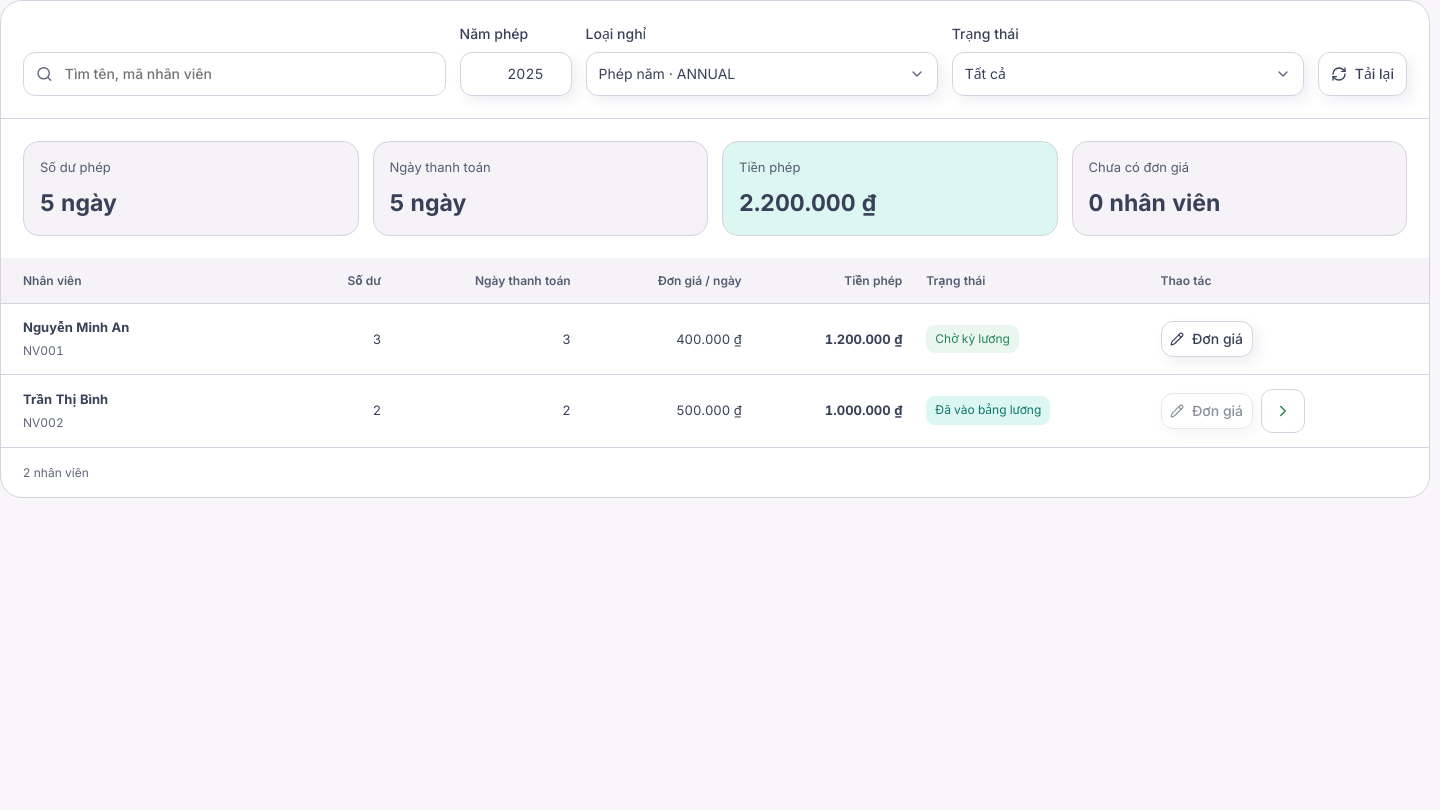
Test: year-end leave settlement UI › validates the integer rate and a meaningful reason before sending any update
The width and height of the screenshot is (1440, 810).
Click the button "Đơn giá" in the row of "Nguyễn Minh An". click: (1206,339)
box: [1160,321,1252,357]
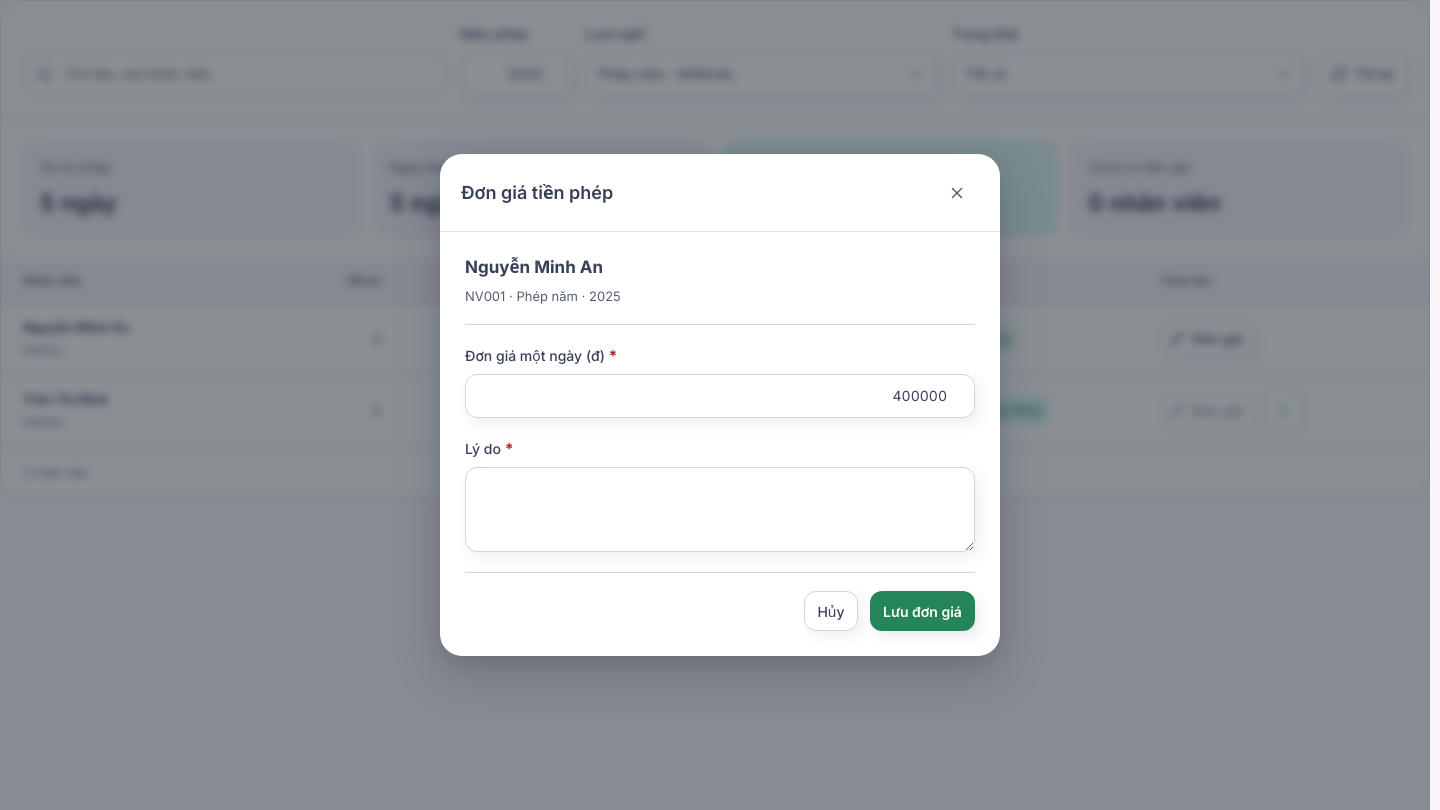
Replace the text in the number field labelled "Đơn giá một ngày (đ) *" with "0.5". click: (720,396)
box: [465,374,975,418]
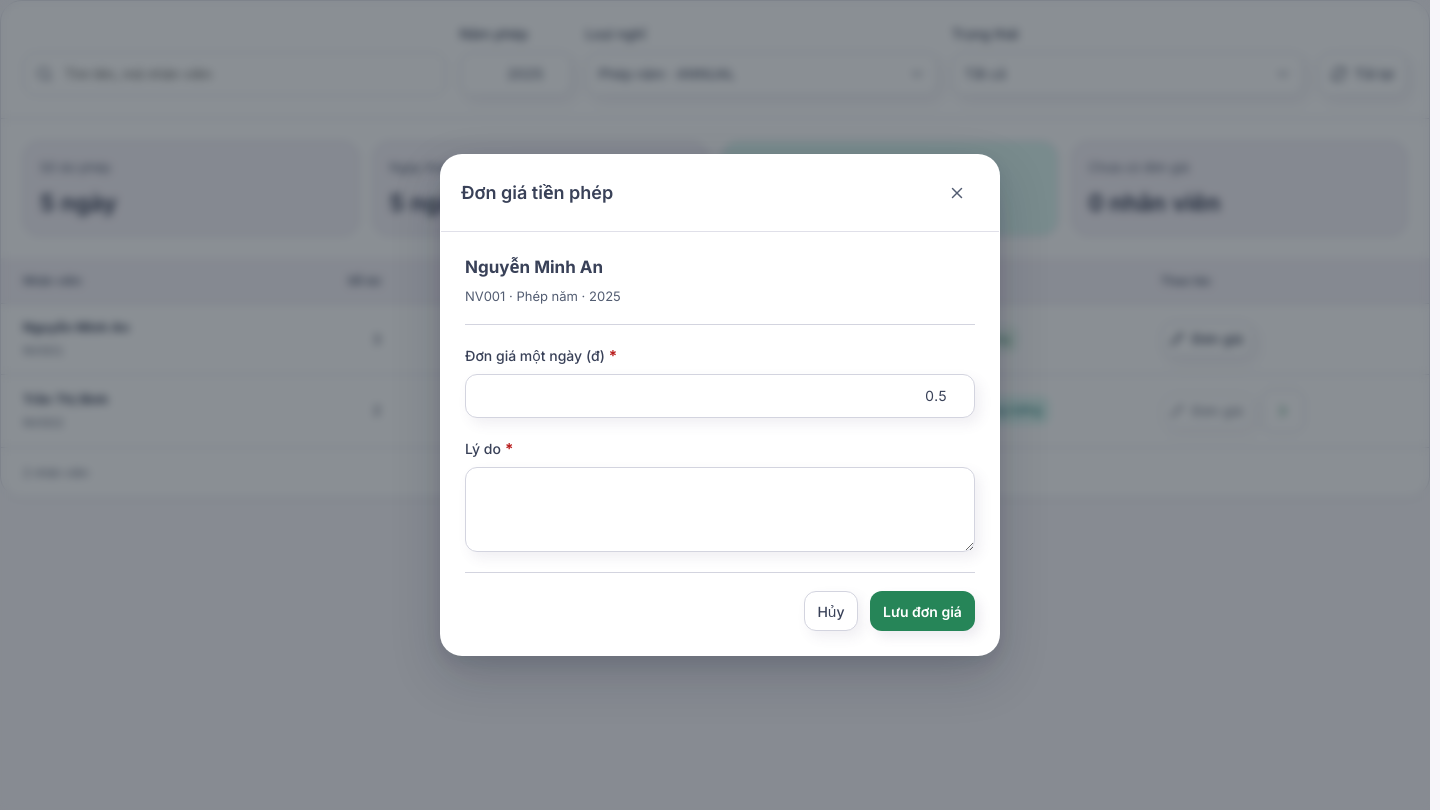
Click the button "Lưu đơn giá". click: (922,611)
box: [870,591,975,631]
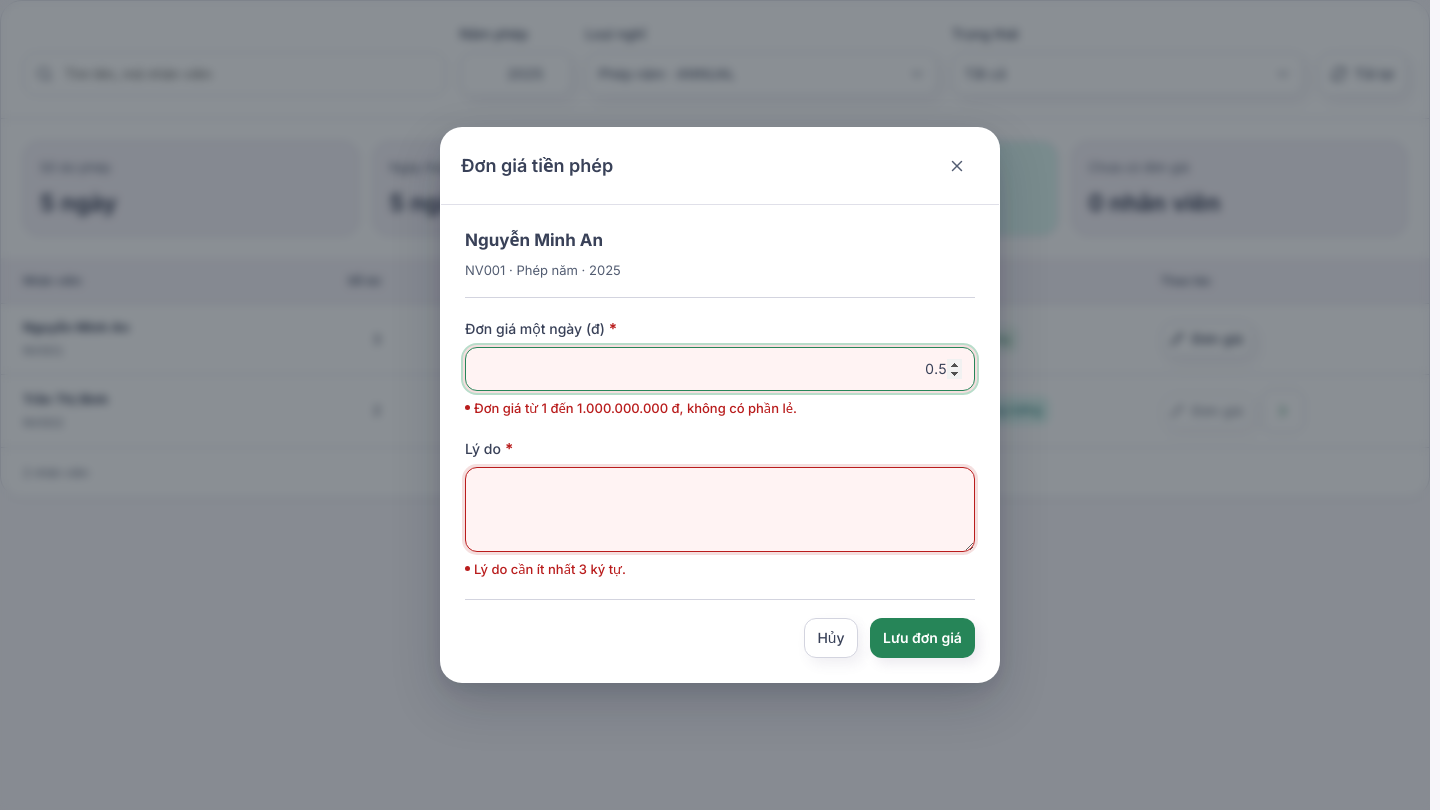
expect the text "Đơn giá từ 1 đến 1.000.000.000 đ, không có phần lẻ." is shown: met, box [474,400,797,416]
expect the text "Lý do cần ít nhất 3 ký tự." is shown: met, box [474,561,626,577]
